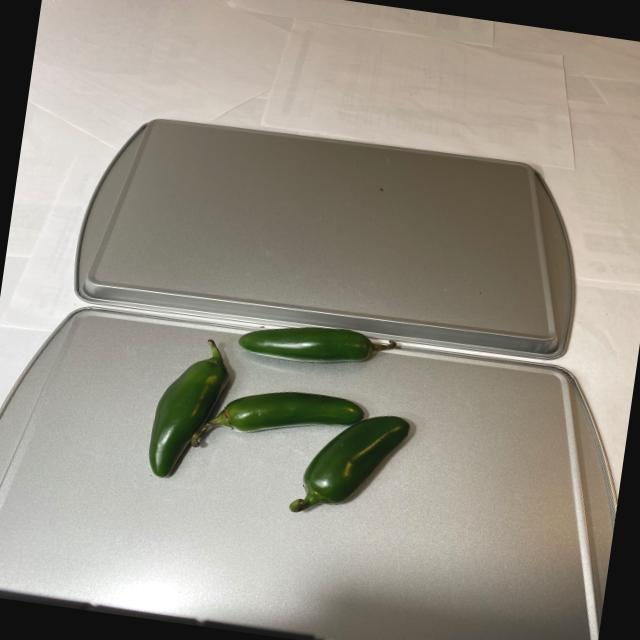chilli: (143, 300, 424, 526)
